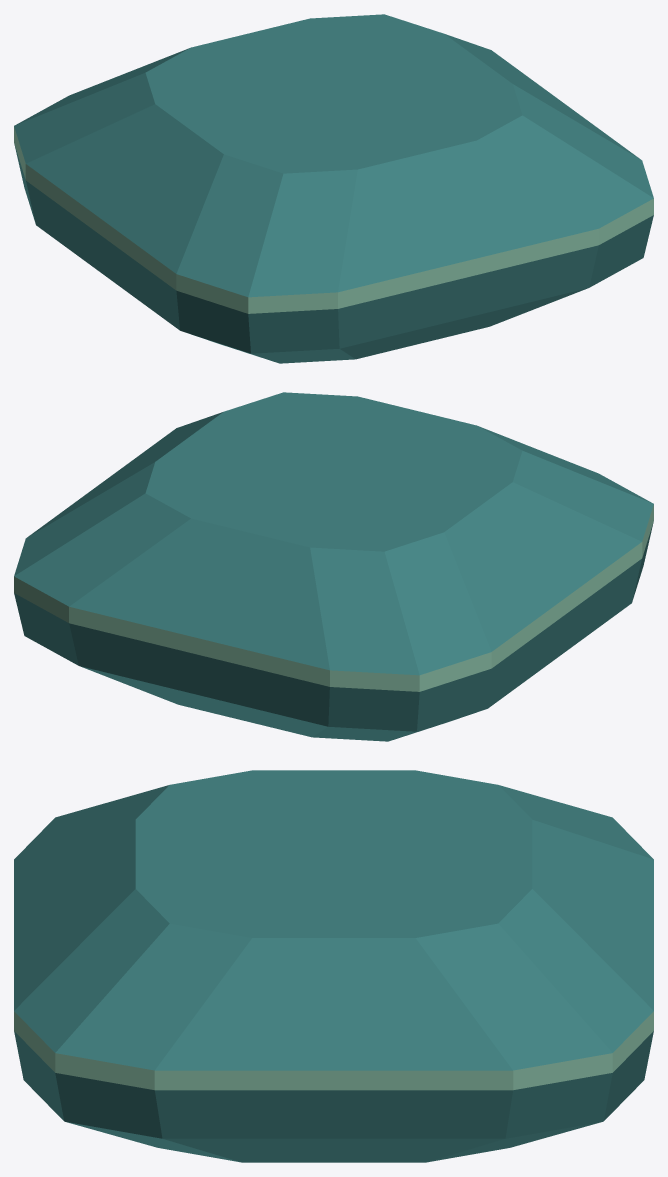
The model's file is SM_LPI_Text_Cushion_01.fbx.
The picture shows the model from 3 angles, top to bottom: view 1: azimuth 30°, elevation 25°; view 2: azimuth 150°, elevation 25°; view 3: azimuth 270°, elevation 25°; orthographic projection. The views are drawn at different scales.
Visible parts, largest first — view 1: SM_LPI_Text_Cushion_01; view 2: SM_LPI_Text_Cushion_01; view 3: SM_LPI_Text_Cushion_01.
Boxes of the visible parts, <box> form: SM_LPI_Text_Cushion_01: <box>14,14,653,363</box>; SM_LPI_Text_Cushion_01: <box>14,392,653,741</box>; SM_LPI_Text_Cushion_01: <box>14,770,653,1162</box>.
Bounding box in the file's own units: 0.45 × 0.17 × 0.45.
